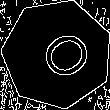O_SW: (24, 22, 91, 87)
